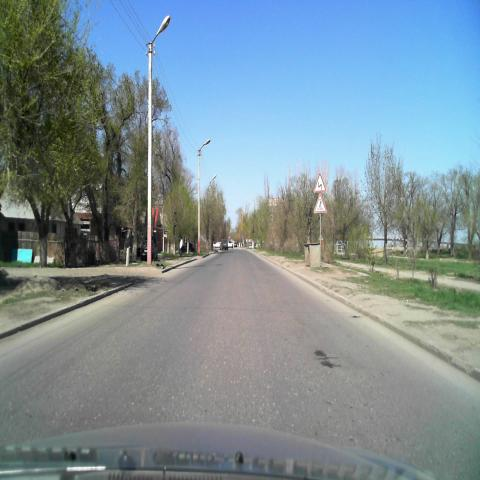1_12_2: (312, 170, 326, 192)
